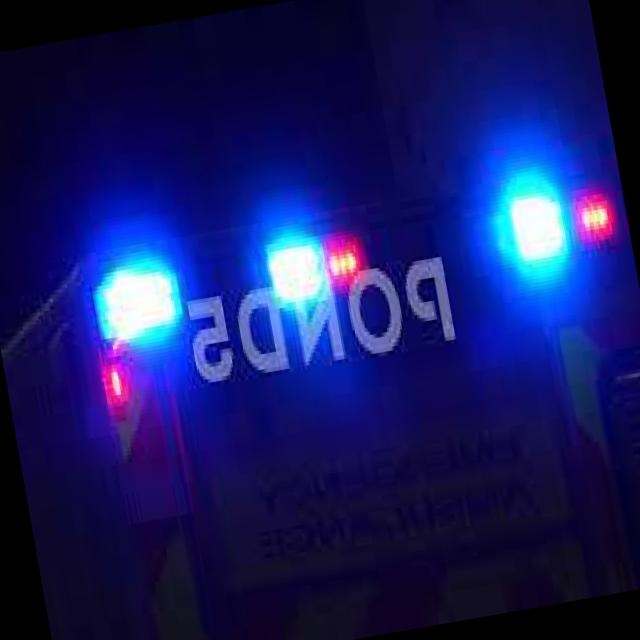ambulance: (0, 108, 633, 359)
